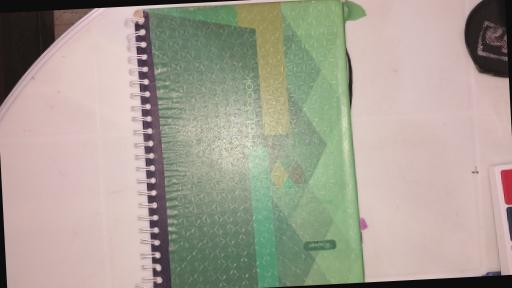notebook: (125, 0, 361, 288)
